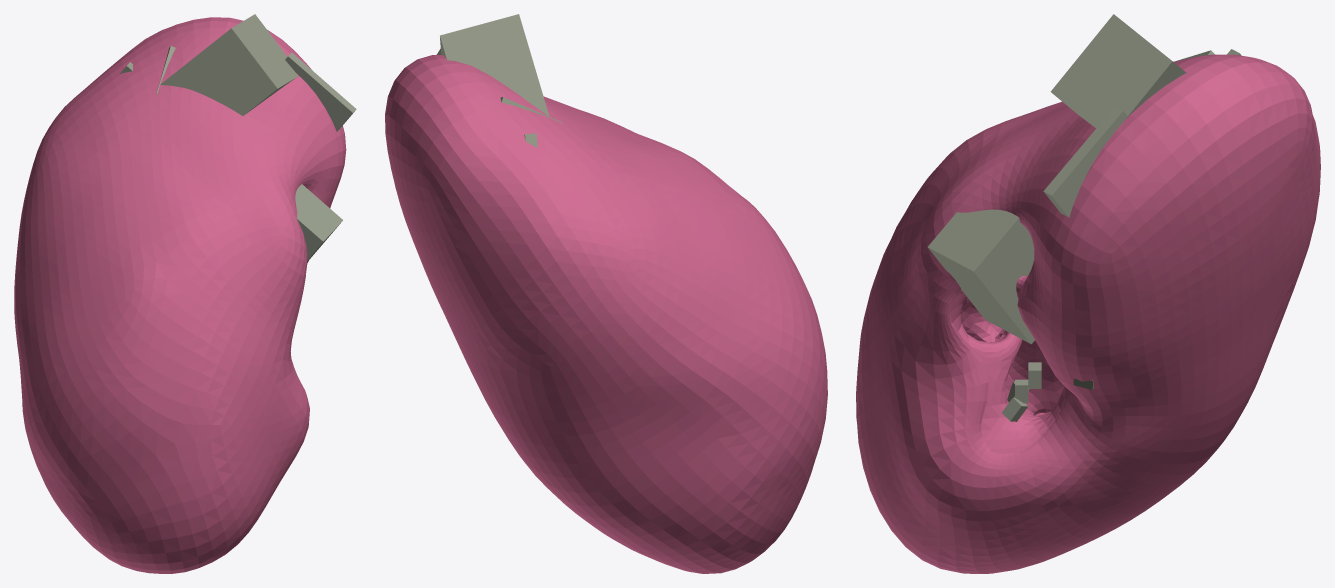
Rendered from female_with_og_tbs.glb.
3 views of the same model, side by side, from view 1: azimuth 30°, elevation 25°; view 2: azimuth 150°, elevation 25°; view 3: azimuth 270°, elevation 25° (orthographic). The views are drawn at different scales.
Visible parts, largest first — view 1: world; view 2: world; view 3: world.
Boxes of the visible parts, x1=… form: world: x1=14, y1=14, x2=356, y2=573; world: x1=385, y1=14, x2=827, y2=573; world: x1=856, y1=14, x2=1320, y2=573.
Size of the model in its own units: 0.0734 by 0.1035 by 0.0695.
